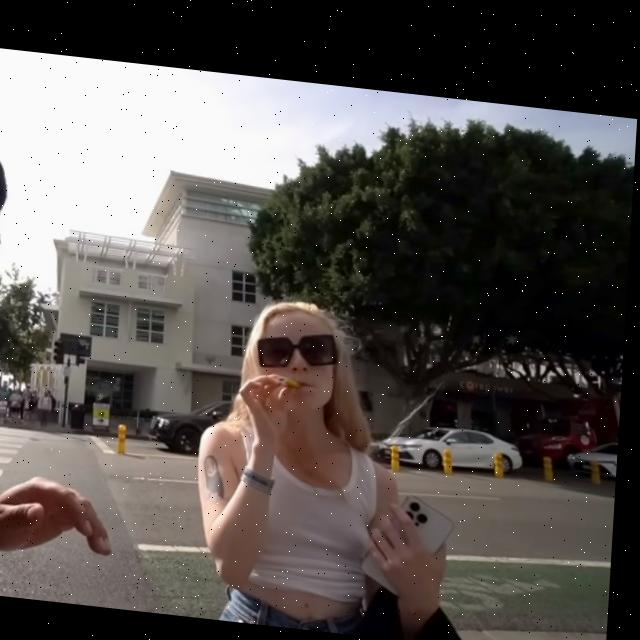vape: (281, 369, 309, 383)
